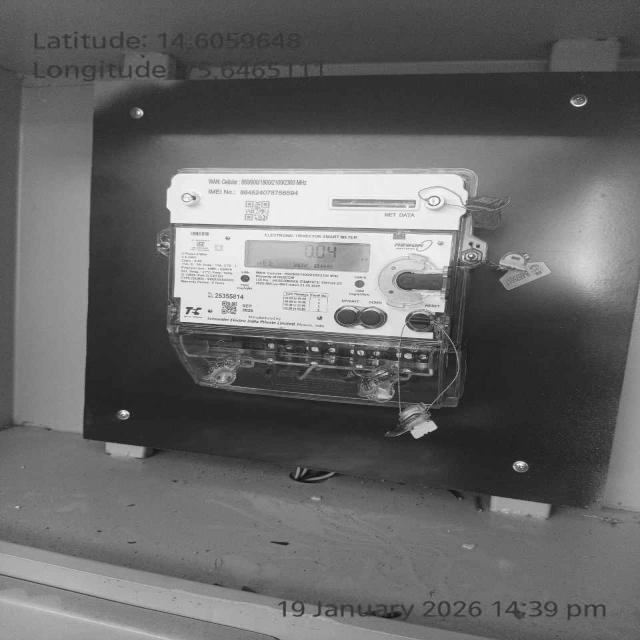meter: (162, 172, 480, 338)
